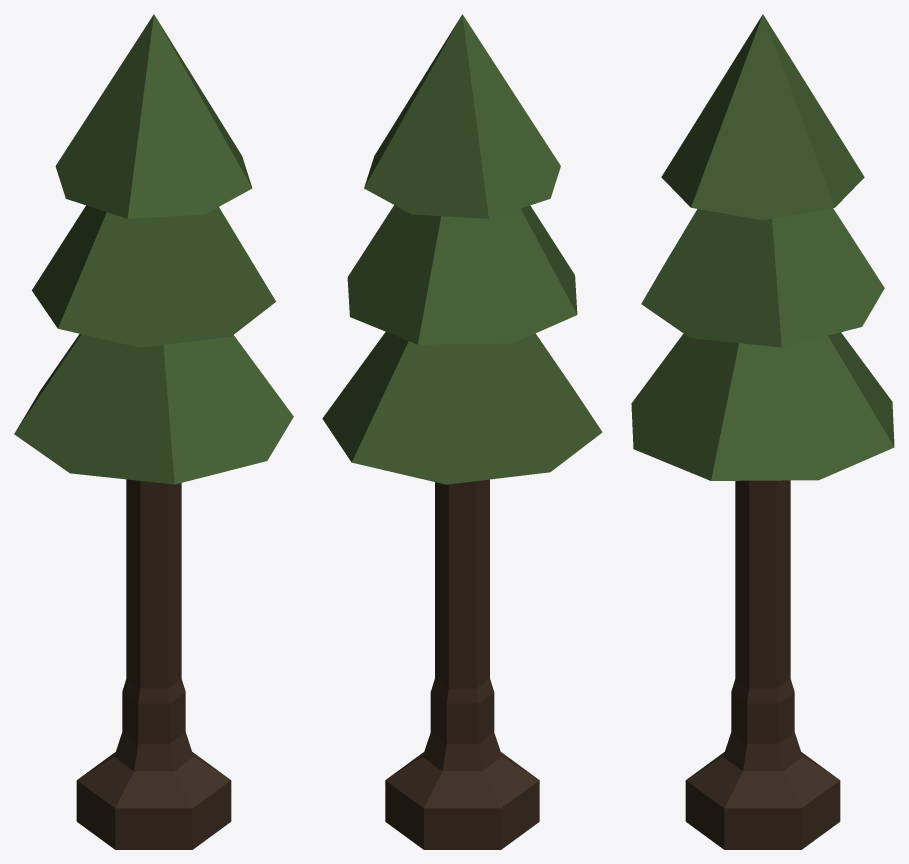
File: Tree_Pine_1B.fbx
3 views of the same model, side by side, from view 1: azimuth 30°, elevation 25°; view 2: azimuth 150°, elevation 25°; view 3: azimuth 270°, elevation 25° (orthographic).
Parts seen in each view (by area): view 1: Tree_Pine_1B; view 2: Tree_Pine_1B; view 3: Tree_Pine_1B.
Part boxes in pixels (x1,y1,x2,y2): Tree_Pine_1B: [14, 14, 293, 849]; Tree_Pine_1B: [322, 14, 602, 849]; Tree_Pine_1B: [631, 14, 894, 849].
Bounding box in the file's own units: 0.4405 × 1.49 × 0.4405.
